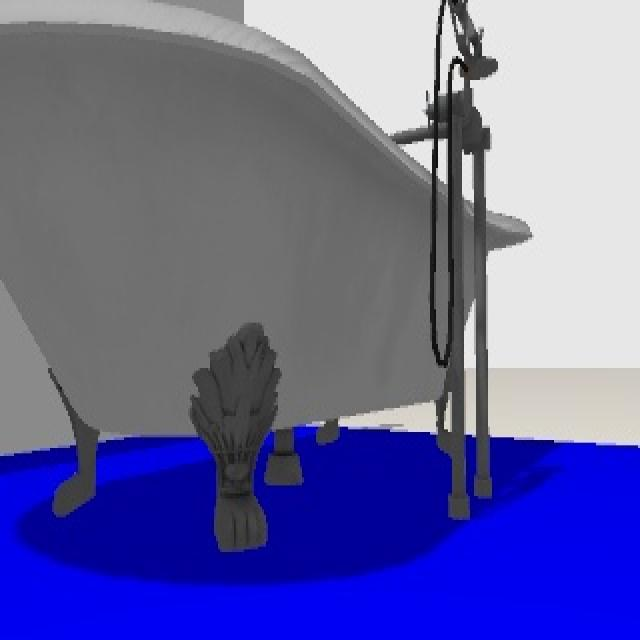bathtub: (0, 0, 530, 553)
